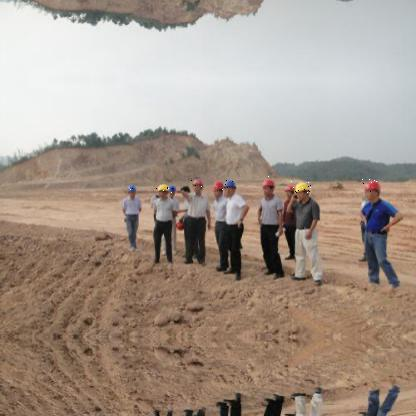safetyhelmet: (362, 177, 382, 194), (295, 180, 312, 194), (190, 176, 204, 190), (260, 176, 276, 188), (222, 178, 238, 190), (210, 180, 226, 192), (156, 182, 171, 194), (285, 180, 297, 194), (124, 184, 138, 194), (168, 184, 177, 194)
